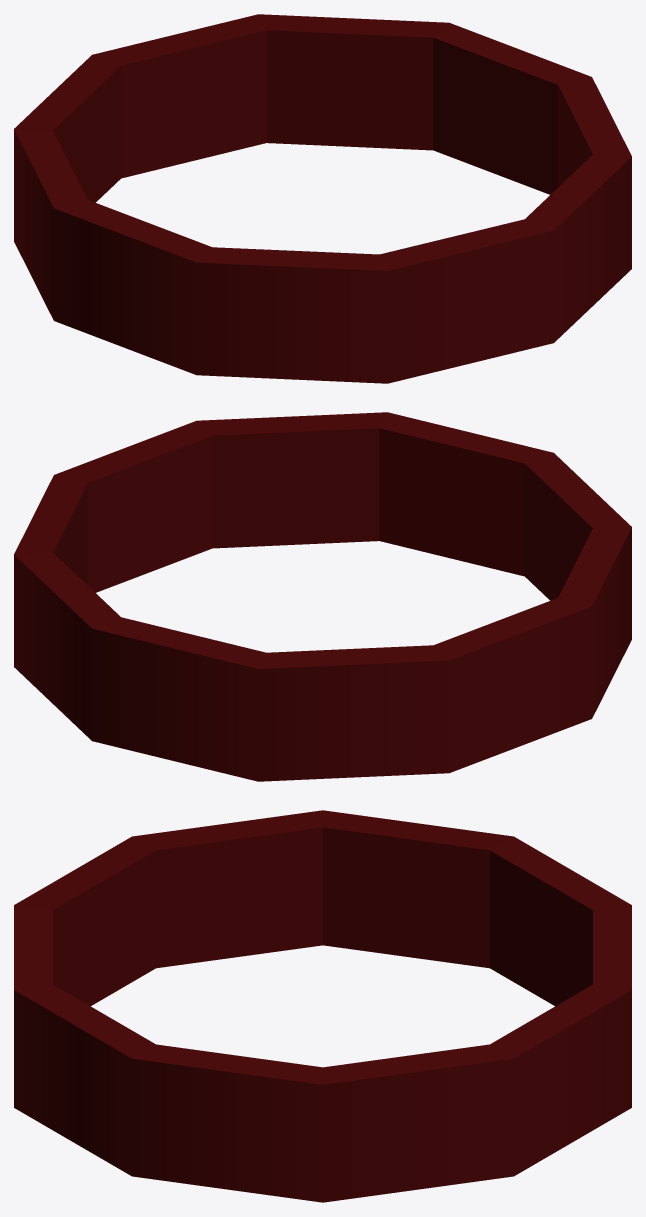
Rendered from Кольцо огня.FBX.
The picture shows the model from 3 angles, top to bottom: view 1: azimuth 30°, elevation 25°; view 2: azimuth 150°, elevation 25°; view 3: azimuth 270°, elevation 25°; orthographic projection. The views are drawn at different scales.
Visible parts, largest first — view 1: Cylinder001; view 2: Cylinder001; view 3: Cylinder001.
Part boxes in pixels (x1,y1,x2,y2): Cylinder001: [14, 14, 631, 383]; Cylinder001: [14, 412, 631, 781]; Cylinder001: [14, 810, 631, 1202].
Size of the model in its own units: 100 by 20.07 by 95.11.
